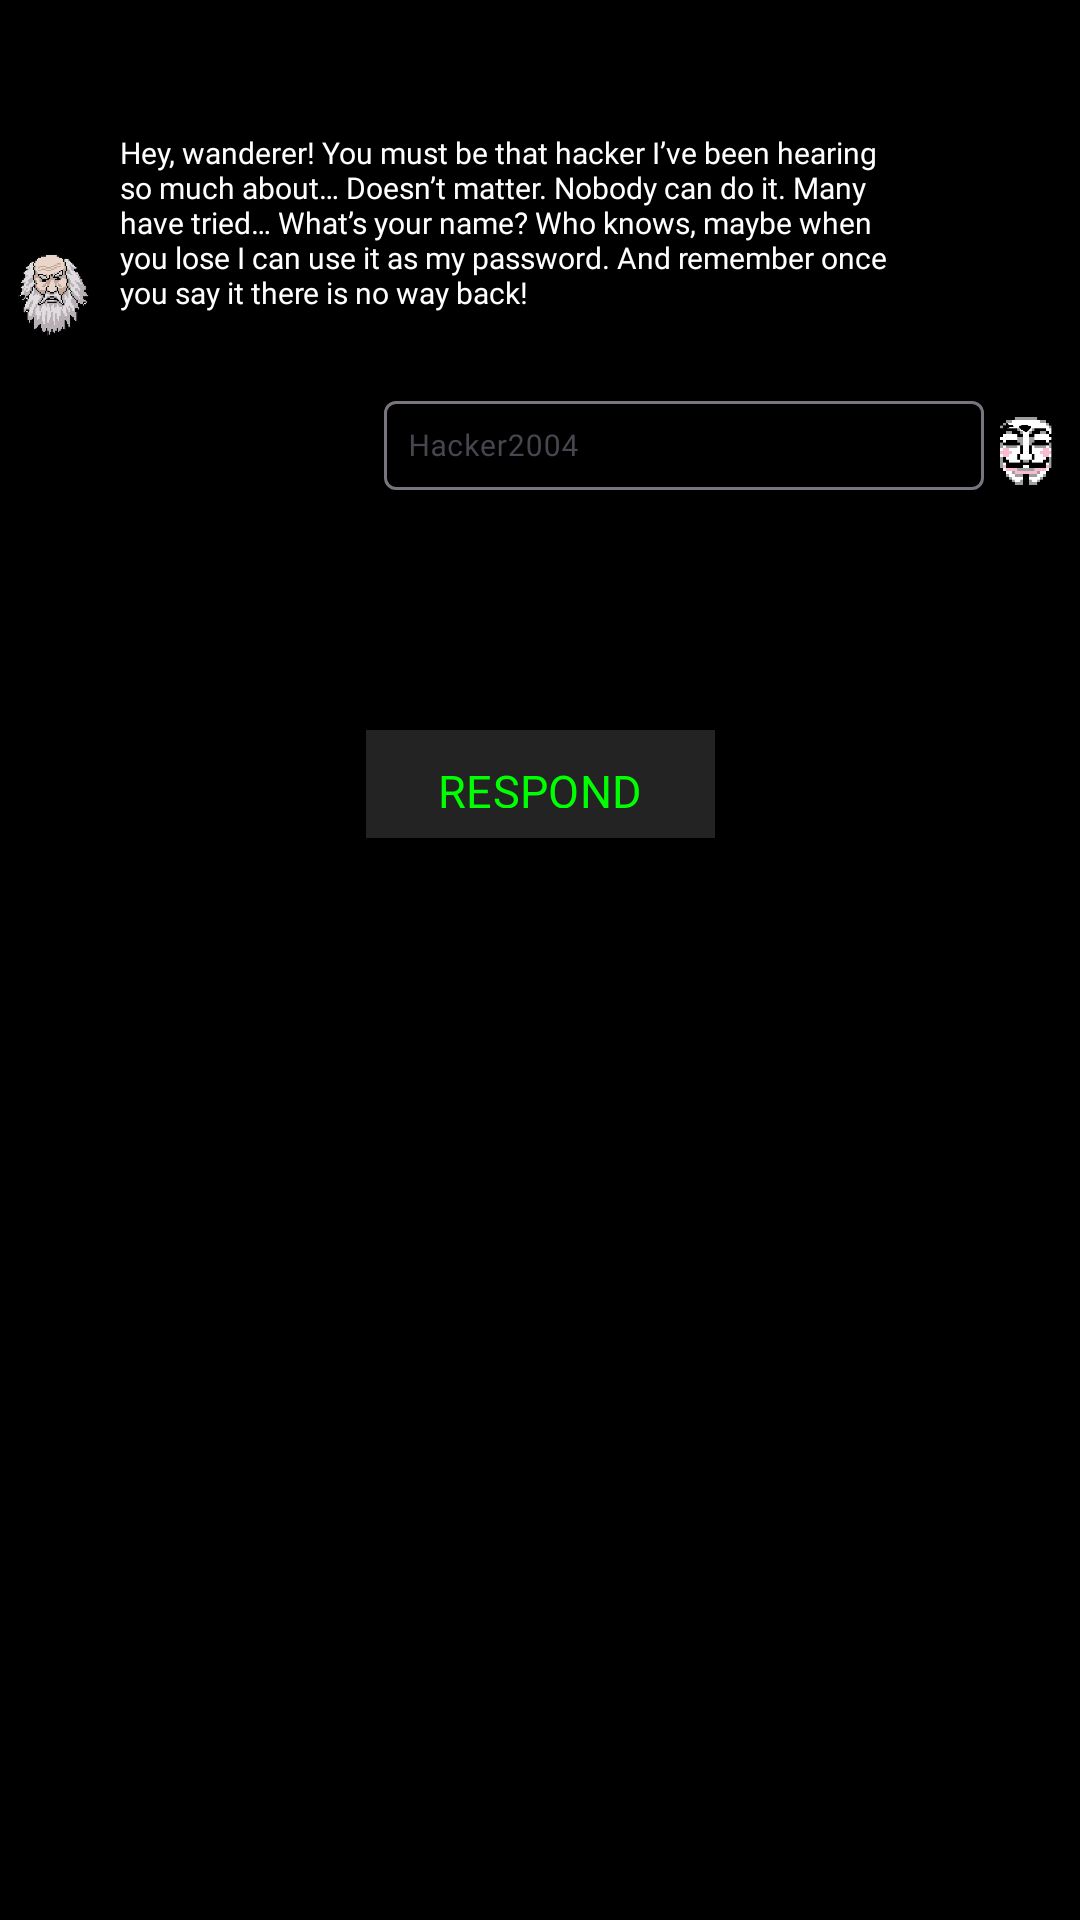

Screen size 1080×1920. Icon name, then its center in pixels as (x=x, y=y):
oldman: (x=53, y=295)
